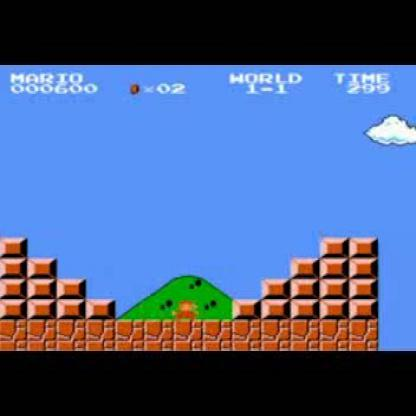Hoyo: (373, 320, 415, 352)
